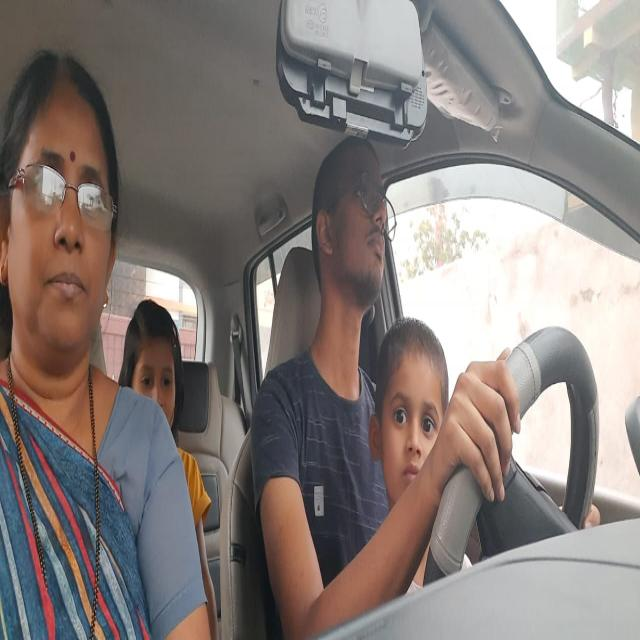child: (373, 319, 444, 501)
person: (0, 42, 123, 365), (311, 128, 392, 311), (119, 293, 190, 428)
